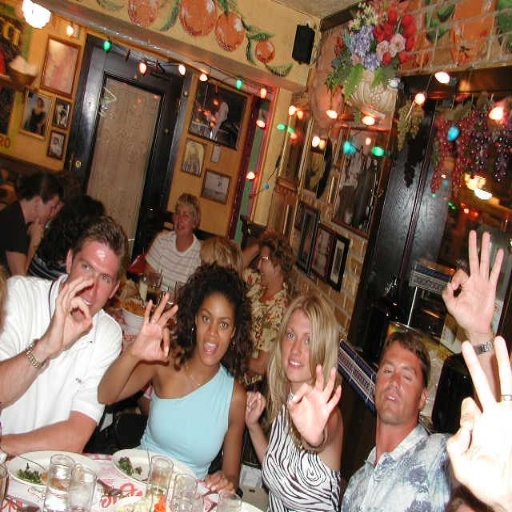hand: (447, 338, 511, 510), (448, 233, 505, 357), (286, 361, 342, 448), (40, 272, 91, 354), (129, 290, 179, 363), (203, 466, 238, 498), (244, 389, 268, 428), (29, 216, 43, 245), (263, 220, 275, 235)
